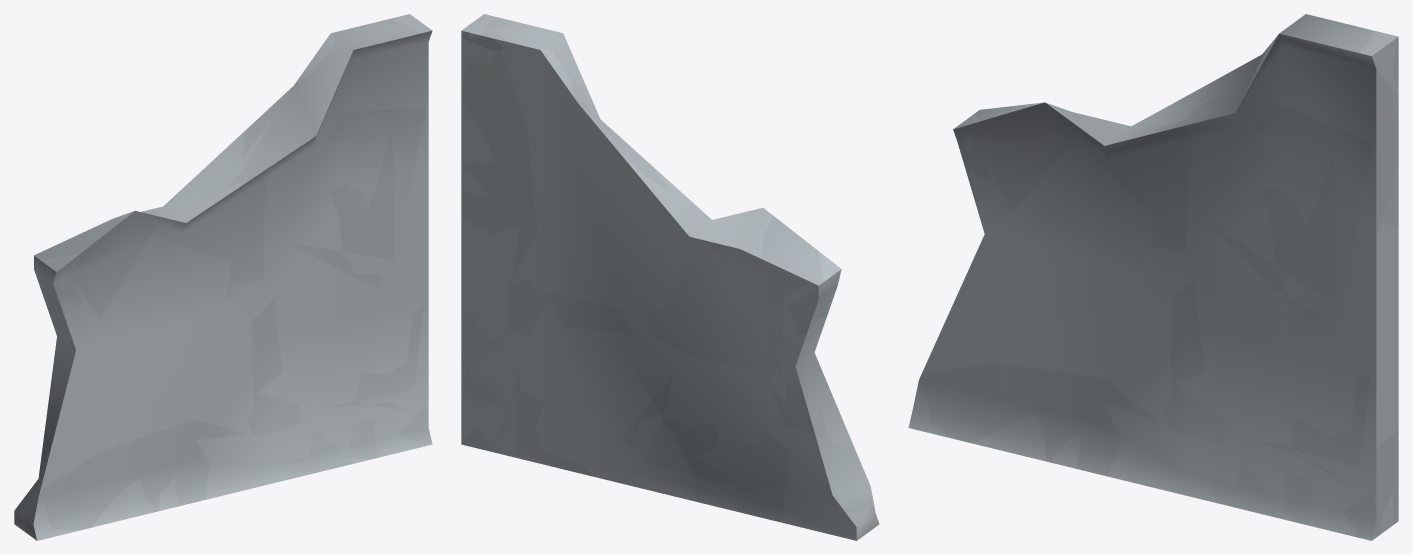
Rendered from Wall_1_Destroyed_2.glb.
3 views of the same model, side by side, from view 1: azimuth 30°, elevation 25°; view 2: azimuth 150°, elevation 25°; view 3: azimuth 330°, elevation 25° (orthographic). The views are drawn at different scales.
Parts seen in each view (by area): view 1: Wall_1_Destroyed_2; view 2: Wall_1_Destroyed_2; view 3: Wall_1_Destroyed_2.
Boxes of the visible parts, <box> form: Wall_1_Destroyed_2: <box>14,14,432,540</box>; Wall_1_Destroyed_2: <box>461,14,879,540</box>; Wall_1_Destroyed_2: <box>908,14,1398,540</box>.
Bounding box in the file's own units: 2 × 2 × 0.3263.
1 material, 1 textured.
